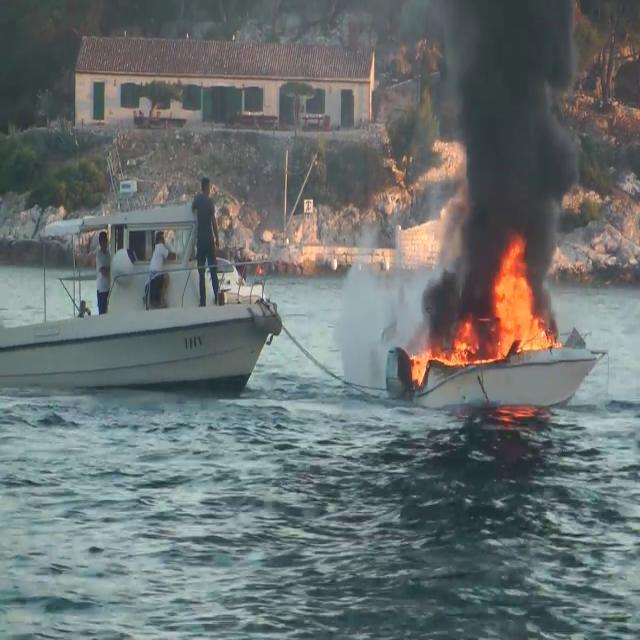Fire: (487, 237, 557, 360), (402, 319, 481, 383)
Smoke: (413, 1, 588, 316)
